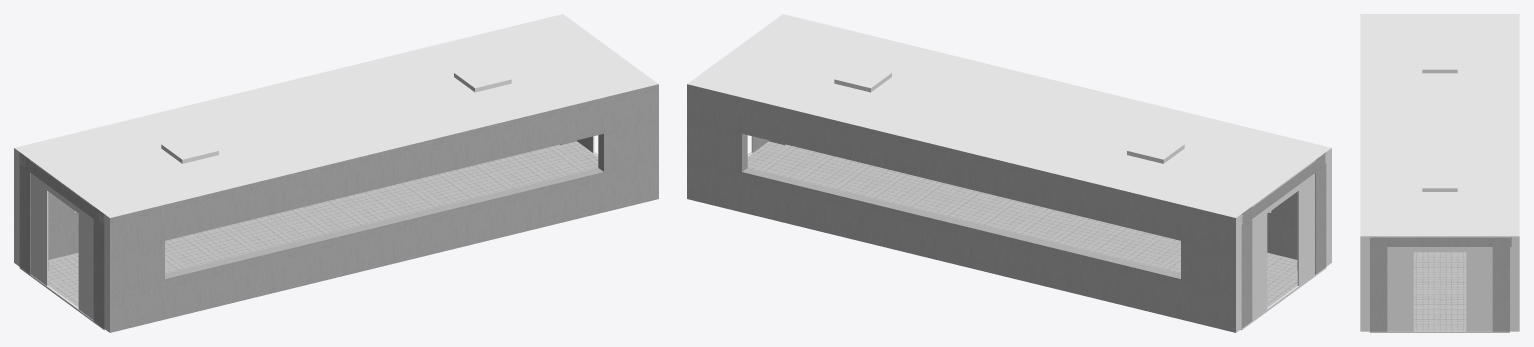
File: Tunnel1_V2_Variant1.fbx
The picture shows the model from 3 angles, left to right: view 1: azimuth 30°, elevation 25°; view 2: azimuth 150°, elevation 25°; view 3: azimuth 270°, elevation 25°; orthographic projection. The views are drawn at different scales.
Parts seen in each view (by area): view 1: node_id19 (×2), node_id43, node_id46, node_id22 (×2), node_id31, node_id49 (×2), node_id37, node_id40, node_id28; view 2: node_id22 (×2), node_id43, node_id46, node_id19 (×2), node_id31, node_id49 (×2), node_id37, node_id40, node_id28; view 3: node_id43, node_id34, node_id46 (×2), node_id49 (×2), node_id19, node_id22, node_id25, node_id37, node_id40.
Part boxes in pixels (bbox=[...]): node_id19 (×2): bbox=[104, 80, 658, 332]; node_id43: bbox=[20, 18, 652, 213]; node_id46: bbox=[31, 141, 598, 320]; node_id22 (×2): bbox=[14, 14, 568, 266]; node_id31: bbox=[31, 173, 93, 319]; node_id49 (×2): bbox=[19, 152, 104, 328]; node_id37: bbox=[161, 135, 218, 163]; node_id40: bbox=[454, 64, 511, 92]; node_id28: bbox=[20, 154, 103, 225]; node_id22 (×2): bbox=[687, 80, 1241, 332]; node_id43: bbox=[693, 18, 1325, 213]; node_id46: bbox=[747, 141, 1314, 320]; node_id19 (×2): bbox=[777, 14, 1331, 266]; node_id31: bbox=[1240, 173, 1314, 329]; node_id49 (×2): bbox=[1241, 152, 1326, 328]; node_id37: bbox=[1127, 135, 1184, 163]; node_id40: bbox=[834, 64, 891, 92]; node_id28: bbox=[1241, 154, 1325, 226]; node_id43: bbox=[1369, 14, 1509, 237]; node_id34: bbox=[1387, 247, 1492, 331]; node_id46 (×2): bbox=[1369, 252, 1509, 332]; node_id49 (×2): bbox=[1370, 236, 1509, 331]; node_id19: bbox=[1360, 14, 1369, 331]; node_id22: bbox=[1510, 14, 1519, 331]; node_id25: bbox=[1387, 237, 1511, 246]; node_id37: bbox=[1422, 55, 1457, 73]; node_id40: bbox=[1422, 173, 1457, 191].
Size of the model in its own units: 0.512 by 0.1075 by 0.1549.
35 materials, 22 textured.
